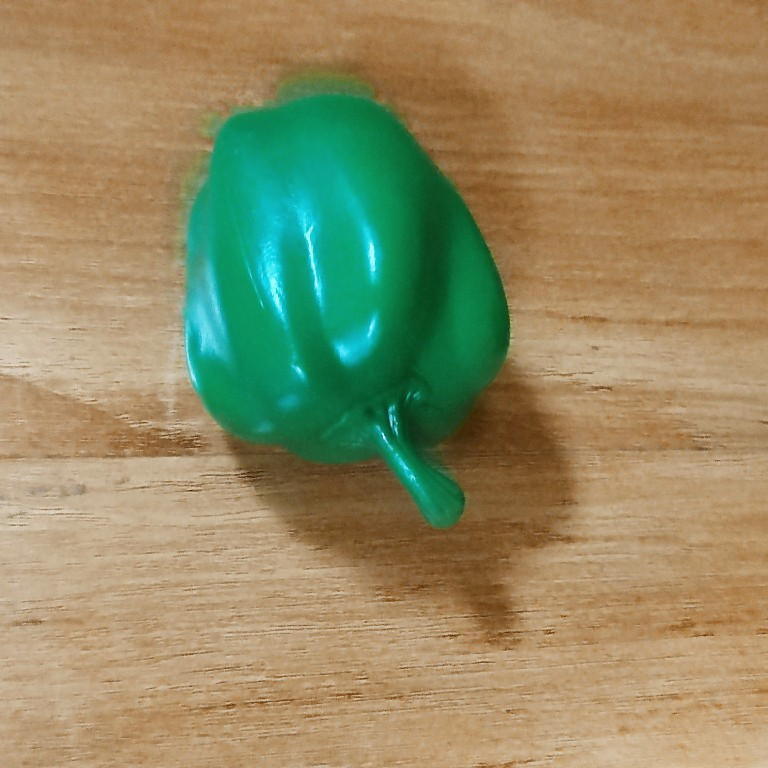fruit_pepper: (170, 84, 527, 535)
